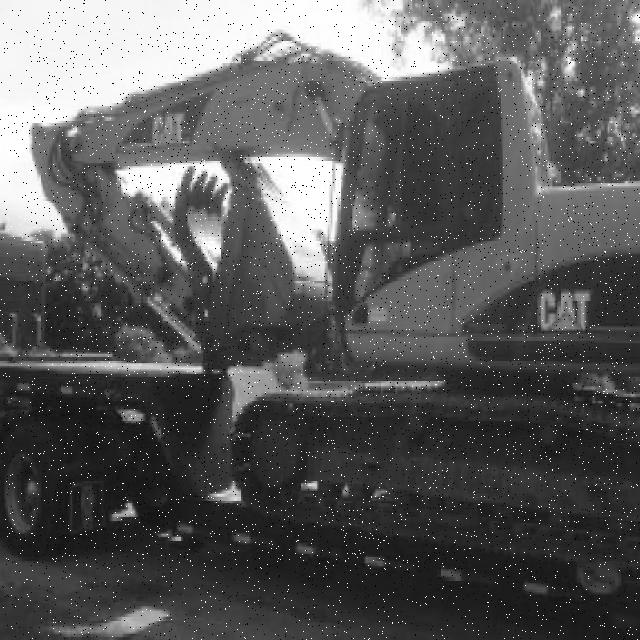Construction Equipment: (31, 34, 640, 570)
